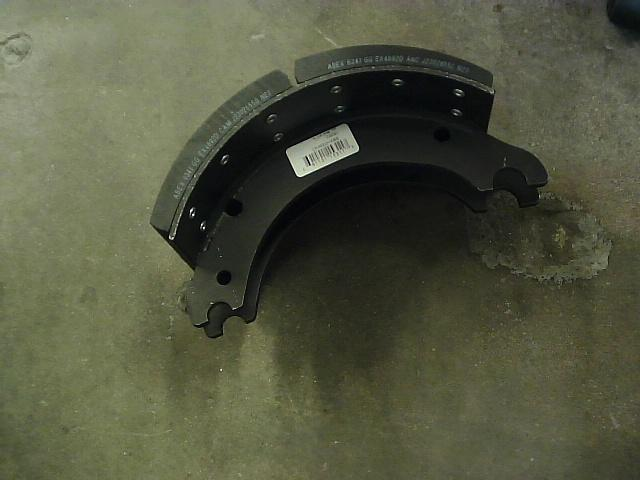brake-shoes: (147, 42, 548, 340)
